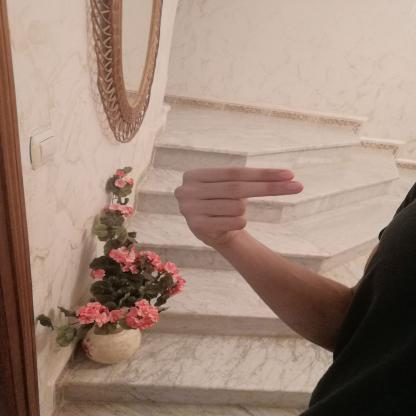AYN: (161, 159, 316, 253)
